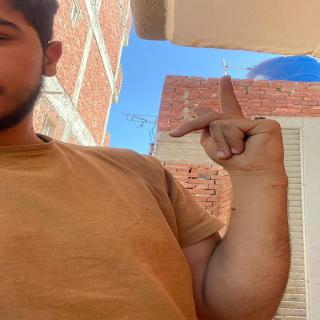DHAA: (158, 69, 296, 174)
